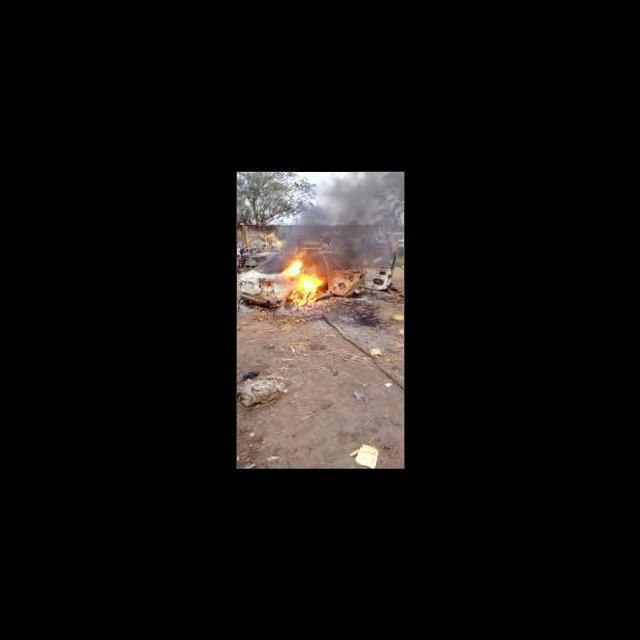Fire: (279, 256, 324, 313)
Smoke: (288, 171, 404, 252)
